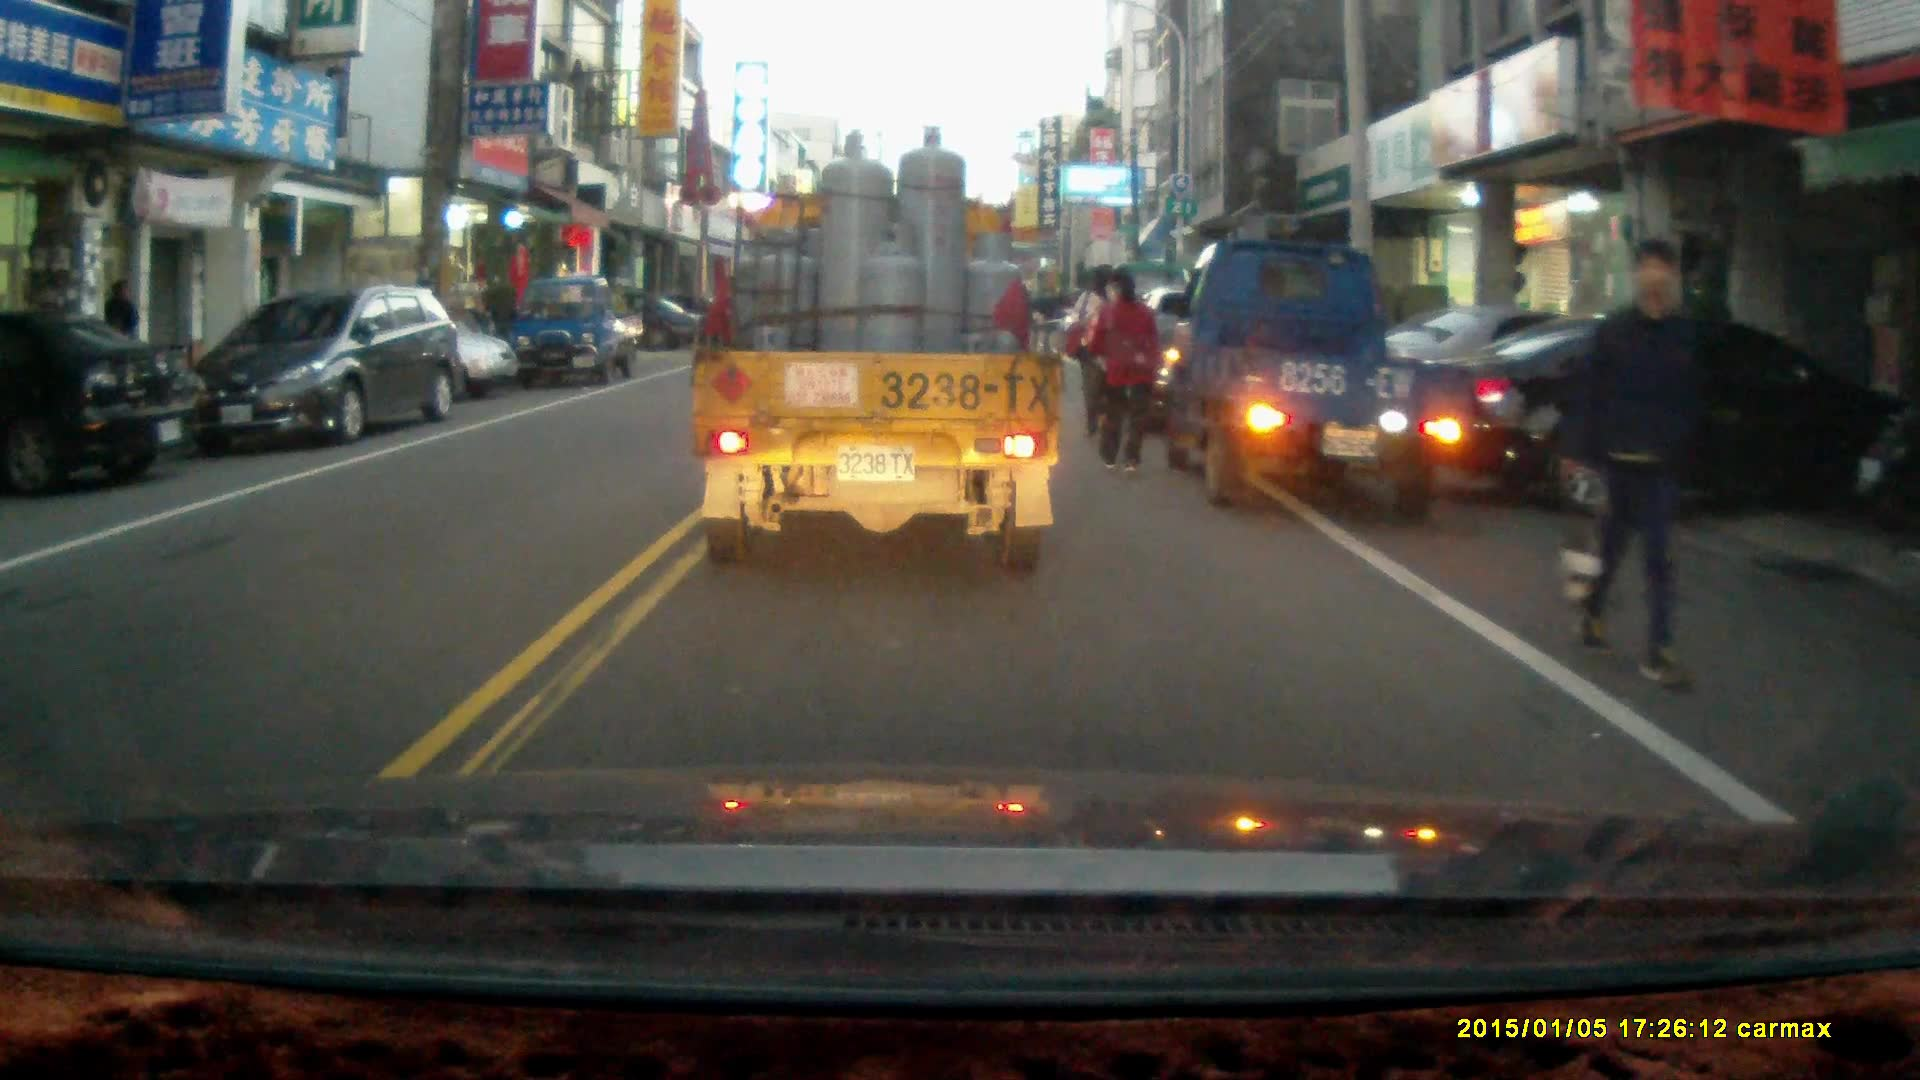pedestrian: (1557, 232, 1712, 687), (1085, 263, 1163, 476), (1069, 262, 1129, 434), (99, 276, 144, 382)
vehicle: (690, 129, 1066, 576), (1165, 239, 1478, 518), (178, 281, 468, 453), (1, 307, 205, 496), (252, 293, 519, 404), (510, 272, 645, 387)
